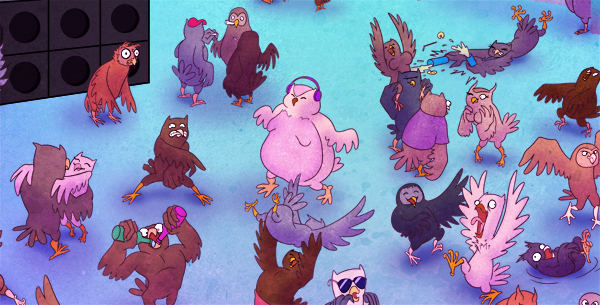bird: (251, 69, 364, 209), (443, 168, 539, 305), (242, 171, 381, 259), (97, 207, 208, 305), (11, 141, 97, 261), (116, 114, 219, 209), (388, 167, 478, 270), (446, 2, 558, 78), (13, 154, 102, 245), (521, 131, 600, 230), (249, 216, 330, 305), (361, 15, 434, 112), (455, 76, 525, 171), (387, 90, 455, 181), (83, 40, 142, 132), (383, 70, 441, 157), (537, 63, 600, 139), (171, 16, 221, 111), (515, 231, 600, 282), (226, 33, 282, 110), (208, 4, 259, 69), (324, 267, 392, 305)
